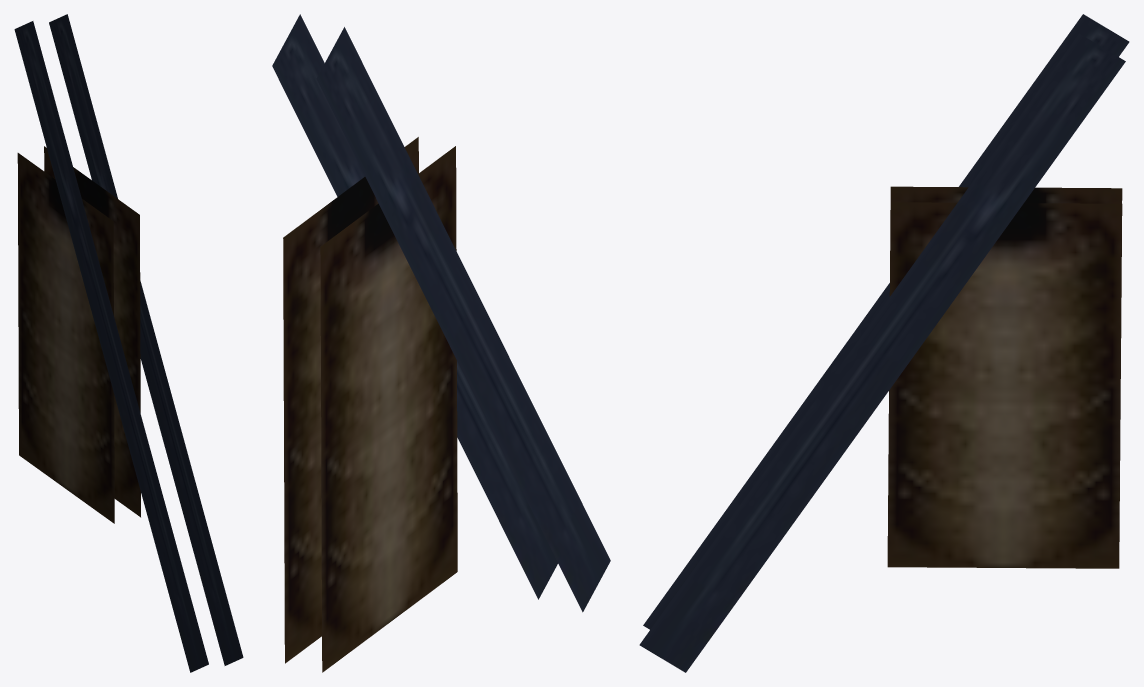
Rendered from sign1_spanish_c_icon_tailor.fbx.
3 renders of one model, left to right at view 1: azimuth 30°, elevation 25°; view 2: azimuth 150°, elevation 25°; view 3: azimuth 270°, elevation 25°, orthographic. The views are drawn at different scales.
Parts seen in each view (by area): view 1: icon_thread, icon_needle; view 2: icon_thread, icon_needle; view 3: icon_thread, icon_needle.
Boxes of the visible parts, x1=… form: icon_thread: x1=17, y1=146, x2=140, y2=523; icon_needle: x1=14, y1=14, x2=243, y2=672; icon_thread: x1=283, y1=137, x2=457, y2=672; icon_needle: x1=272, y1=14, x2=610, y2=612; icon_thread: x1=887, y1=186, x2=1122, y2=568; icon_needle: x1=639, y1=14, x2=1129, y2=672.
Bounding box in the file's own units: 25 × 322 × 222.
Materials: 1 (1 with a texture image).
